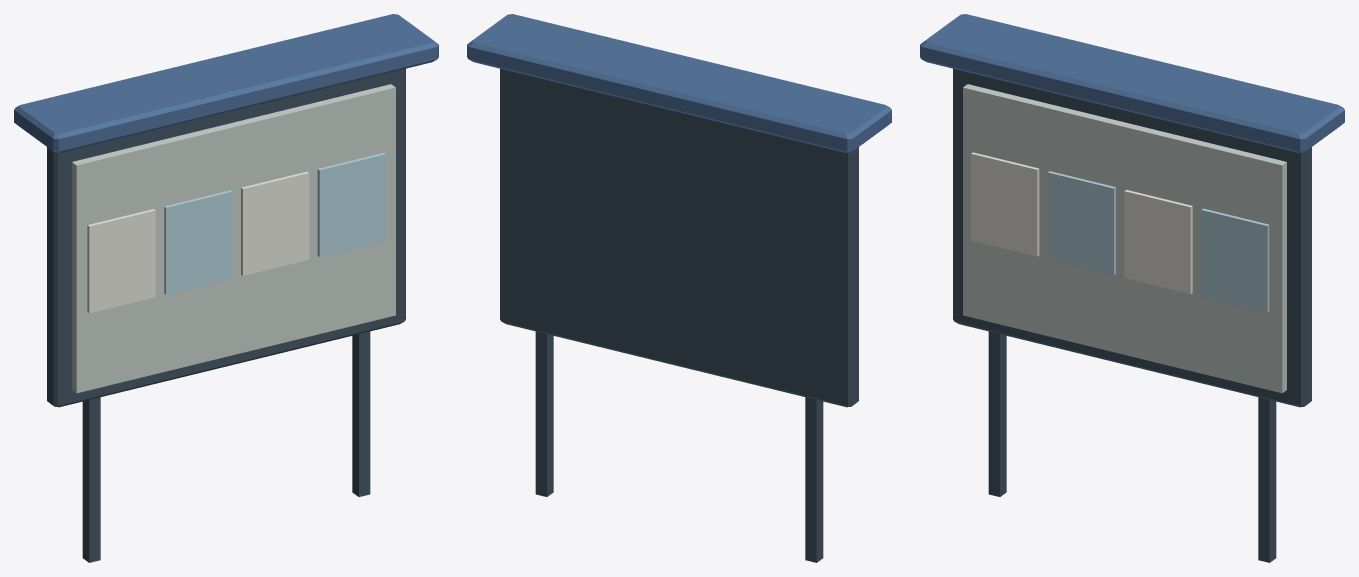
The model's file is v18_street_info_board.glb.
3 renders of one model, left to right at view 1: azimuth 30°, elevation 25°; view 2: azimuth 150°, elevation 25°; view 3: azimuth 330°, elevation 25°, orthographic.
Visible parts, largest first — view 1: _MeshInstance3D_4438, _MeshInstance3D_4447, _MeshInstance3D_4437, _MeshInstance3D_4440, _MeshInstance3D_4439, _MeshInstance3D_4441, _MeshInstance3D_4442, _MeshInstance3D_4444, _MeshInstance3D_4443; view 2: _MeshInstance3D_4437, _MeshInstance3D_4447, _MeshInstance3D_4444, _MeshInstance3D_4443; view 3: _MeshInstance3D_4438, _MeshInstance3D_4447, _MeshInstance3D_4437, _MeshInstance3D_4442, _MeshInstance3D_4441, _MeshInstance3D_4439, _MeshInstance3D_4440, _MeshInstance3D_4443, _MeshInstance3D_4444.
Boxes of the visible parts, x1,y1,x2,y2 form: _MeshInstance3D_4438: [72, 84, 395, 393]; _MeshInstance3D_4447: [14, 14, 438, 152]; _MeshInstance3D_4437: [47, 68, 405, 407]; _MeshInstance3D_4440: [164, 190, 232, 294]; _MeshInstance3D_4439: [87, 209, 155, 313]; _MeshInstance3D_4441: [241, 171, 309, 275]; _MeshInstance3D_4442: [317, 153, 385, 256]; _MeshInstance3D_4444: [352, 331, 370, 496]; _MeshInstance3D_4443: [82, 397, 100, 562]; _MeshInstance3D_4437: [500, 68, 858, 407]; _MeshInstance3D_4447: [467, 14, 891, 152]; _MeshInstance3D_4444: [535, 331, 553, 496]; _MeshInstance3D_4443: [805, 397, 823, 562]; _MeshInstance3D_4438: [963, 84, 1286, 393]; _MeshInstance3D_4447: [920, 14, 1344, 152]; _MeshInstance3D_4437: [953, 68, 1311, 407]; _MeshInstance3D_4442: [1201, 208, 1269, 312]; _MeshInstance3D_4441: [1124, 190, 1192, 293]; _MeshInstance3D_4439: [971, 152, 1039, 256]; _MeshInstance3D_4440: [1047, 171, 1115, 275]; _MeshInstance3D_4443: [988, 331, 1006, 496]; _MeshInstance3D_4444: [1258, 397, 1276, 562].
Size of the model in its own units: 1.65 by 1.85 by 0.3194.
